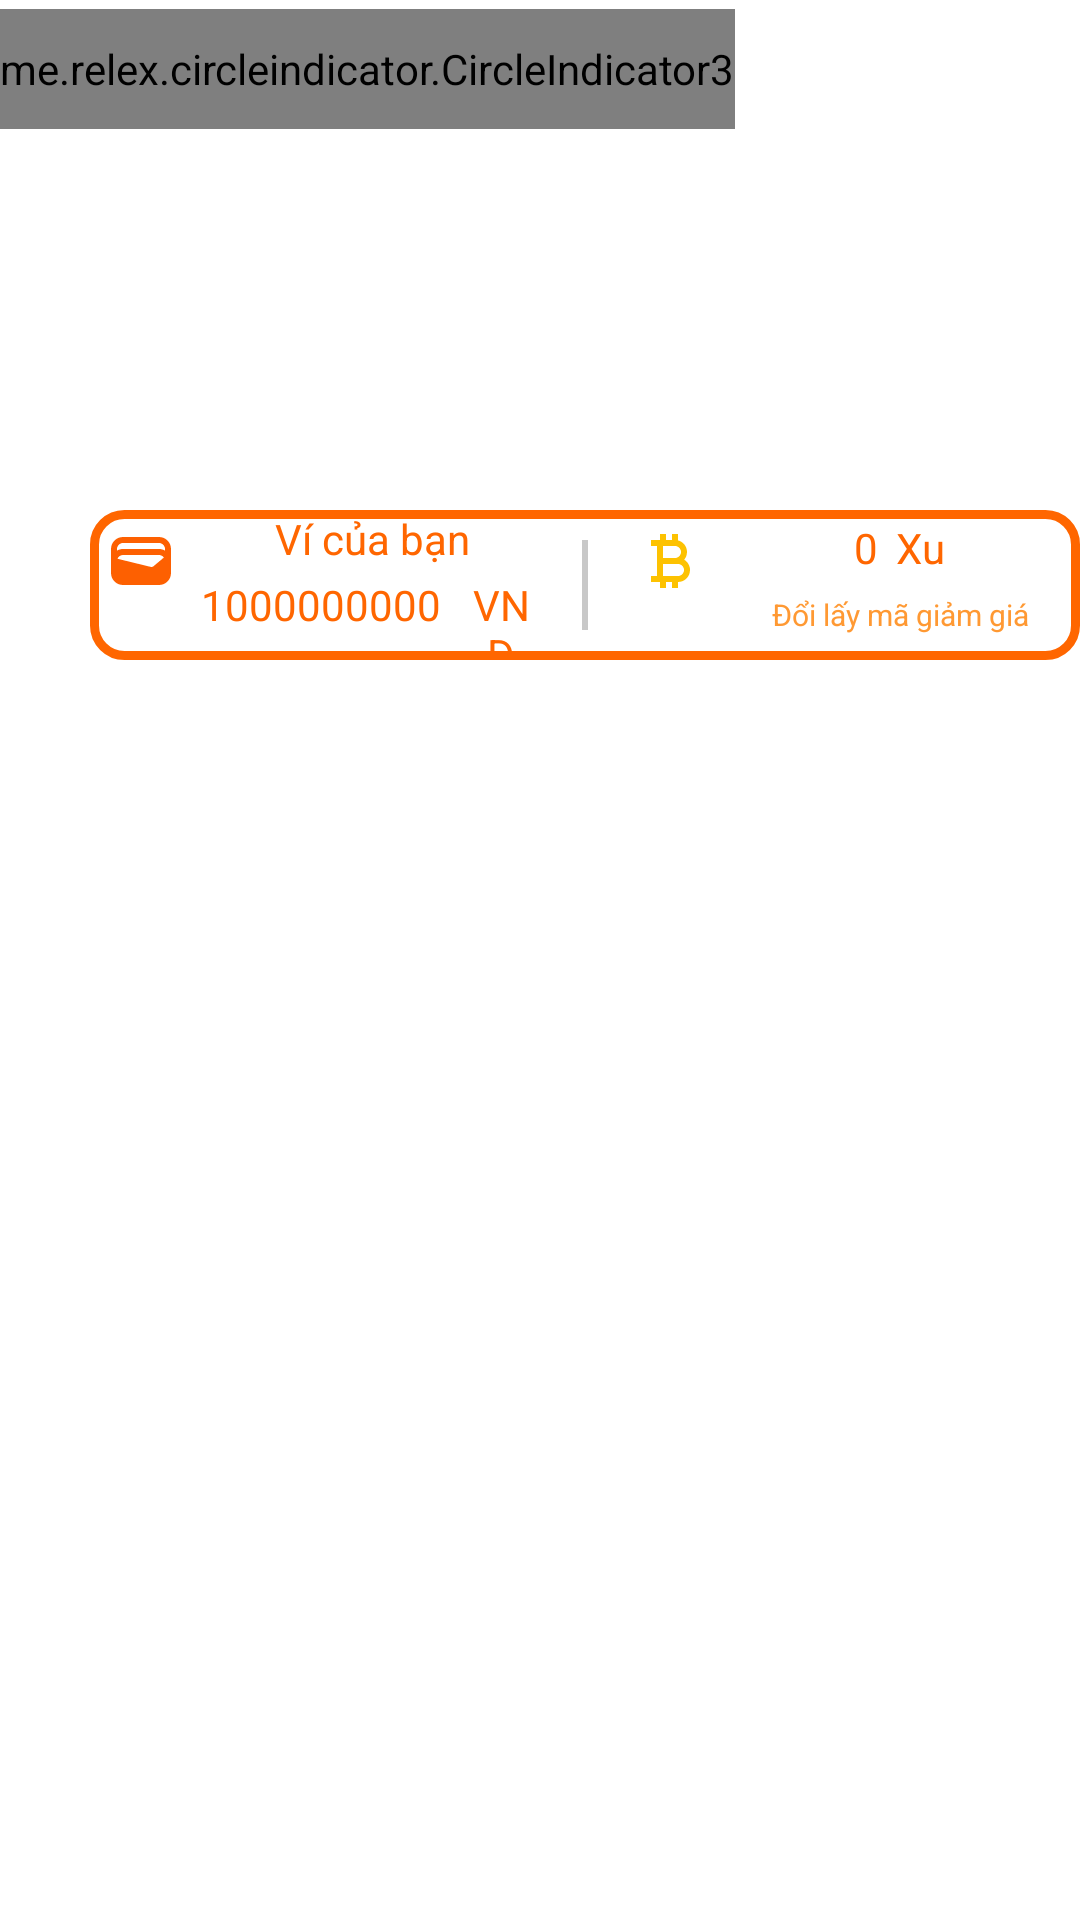

Where icons sit on this 1080px x 1920px app screen, as (x1, y1, x2, y2):
wallet: (111, 537, 171, 585)
